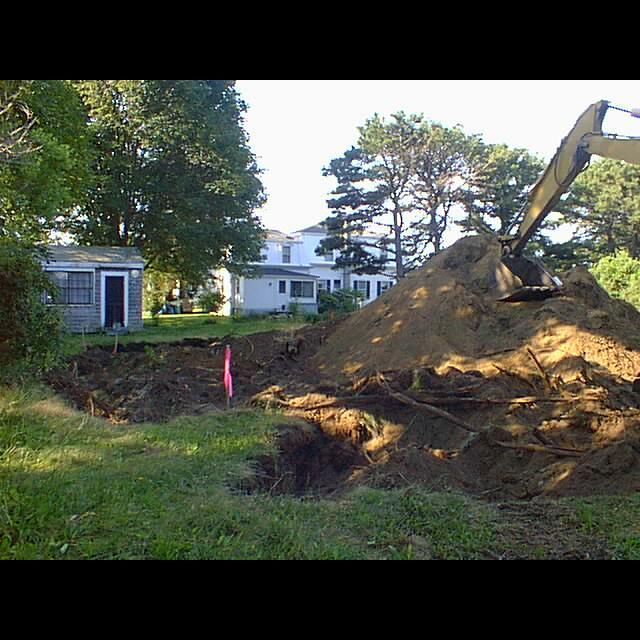Excavator: (470, 87, 639, 303)
